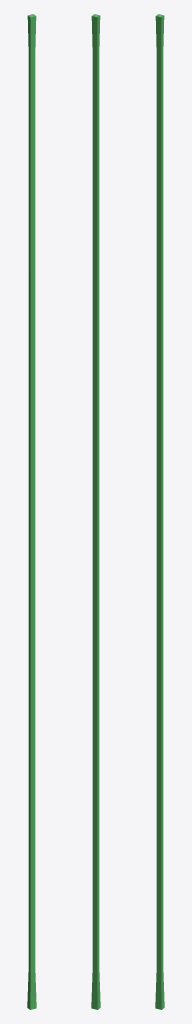
Rendered from jungle_slime_A.fbx.
3 renders of one model, left to right at view 1: azimuth 30°, elevation 25°; view 2: azimuth 150°, elevation 25°; view 3: azimuth 330°, elevation 25°, orthographic.
Parts seen in each view (by area): view 1: jungle_slime_A; view 2: jungle_slime_A; view 3: jungle_slime_A.
Part boxes in pixels (x1=…): jungle_slime_A: x1=27, y1=14, x2=36, y2=1009; jungle_slime_A: x1=91, y1=14, x2=100, y2=1009; jungle_slime_A: x1=155, y1=14, x2=164, y2=1009.
Size of the model in its own units: 4.65 by 684 by 3.76.
